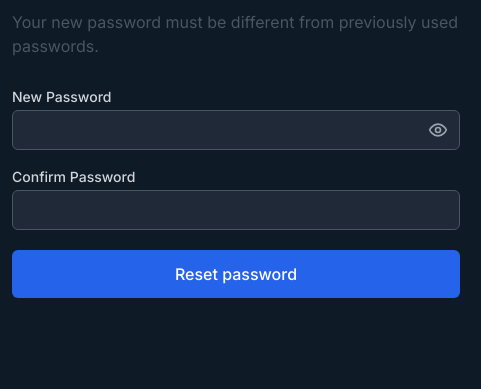
ResetPasswordPage › shows error message on API failure
The image size is (481, 389).
Type "NewPassword123!" into the password field labelled "New Password" at (236, 130), box [12, 110, 460, 150]
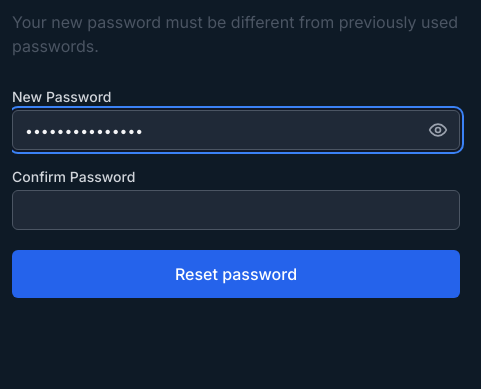
Type "NewPassword123!" into the password field labelled "Confirm Password" at (236, 210), box [12, 190, 460, 230]
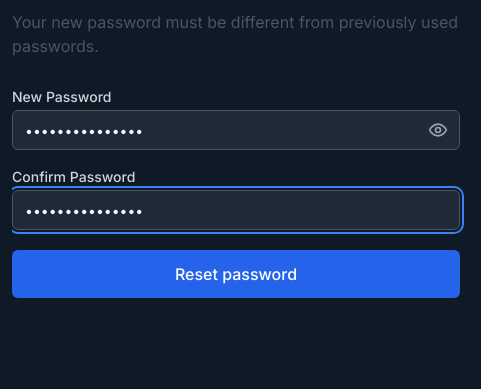
Click the button "Reset password" at (236, 274), box [12, 250, 460, 298]
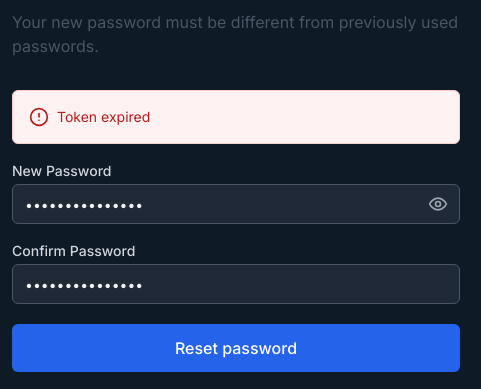
Result: the text "Token expired" is shown at [57, 107, 150, 127]
